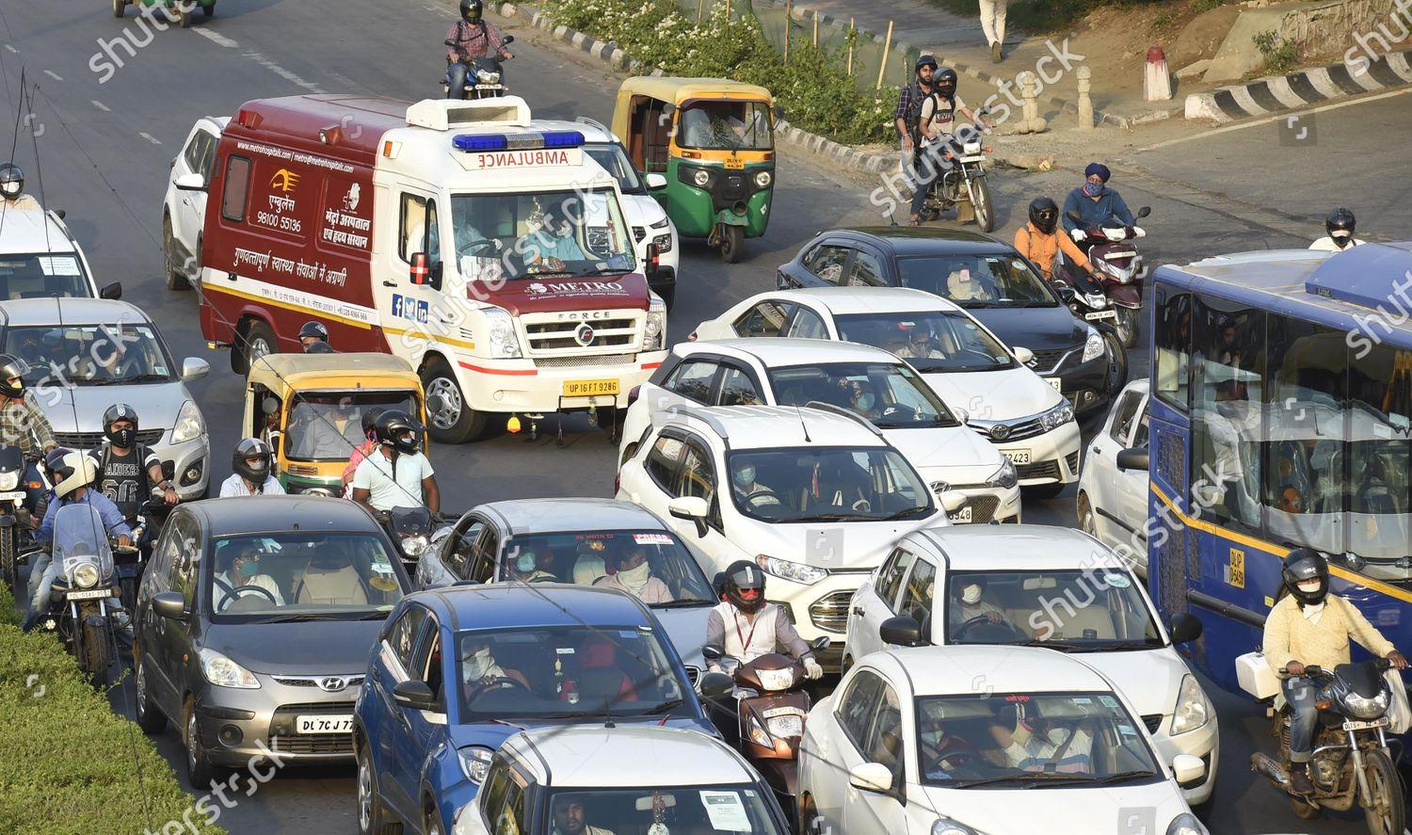ambulance: (402, 109, 644, 407)
